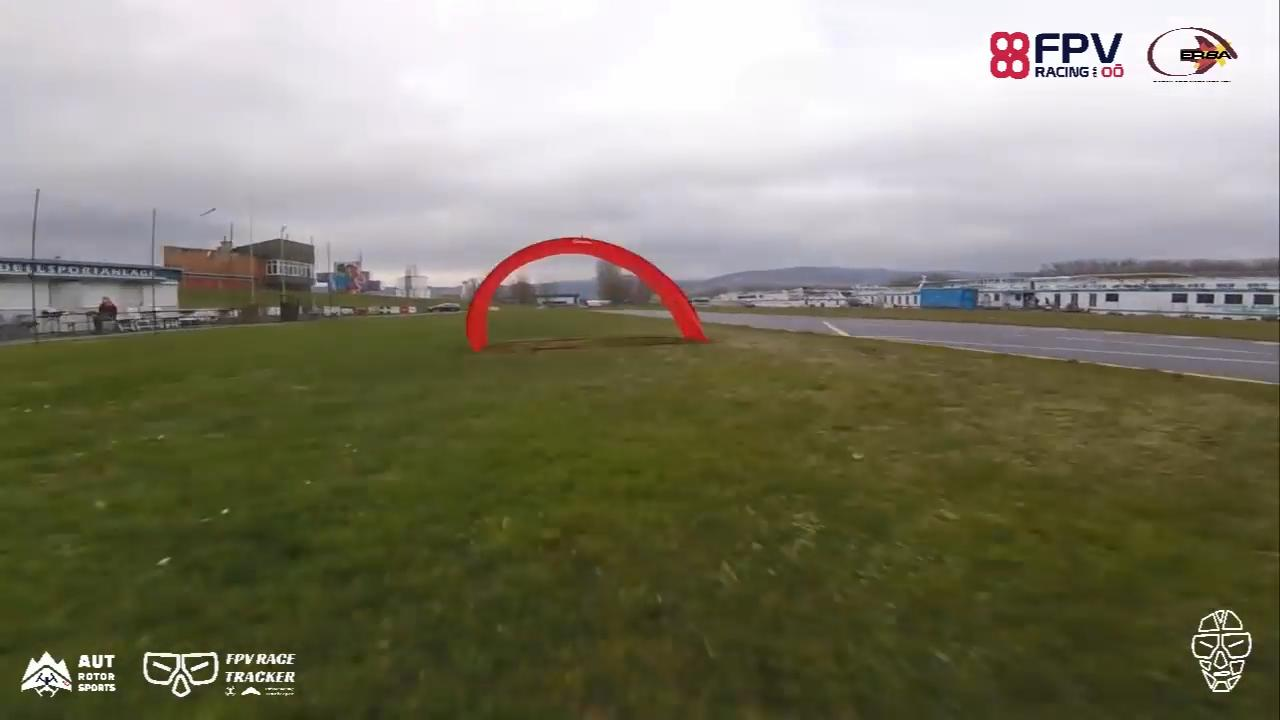gate: (459, 232, 709, 353)
